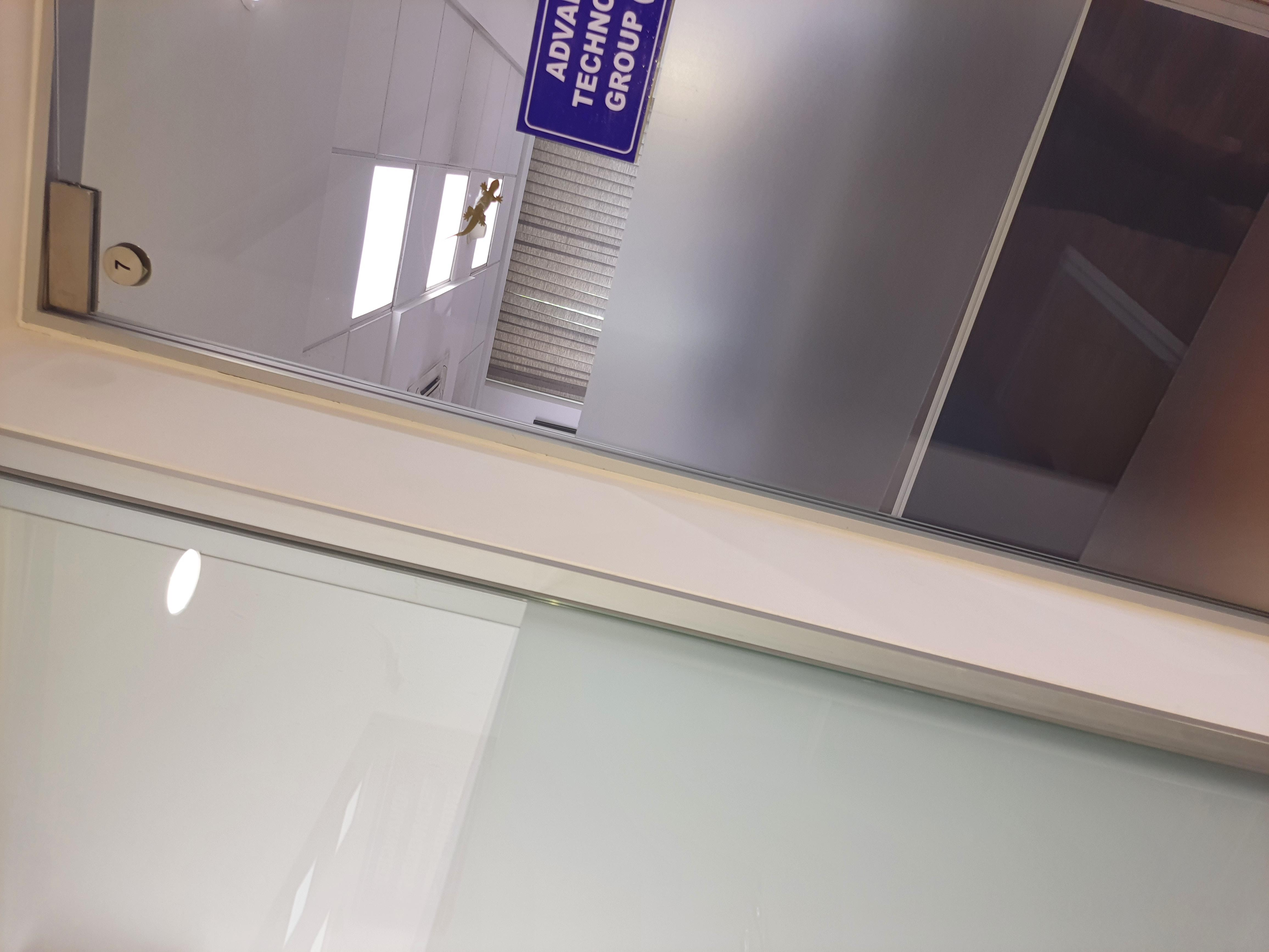lizard: (945, 334, 1063, 384)
